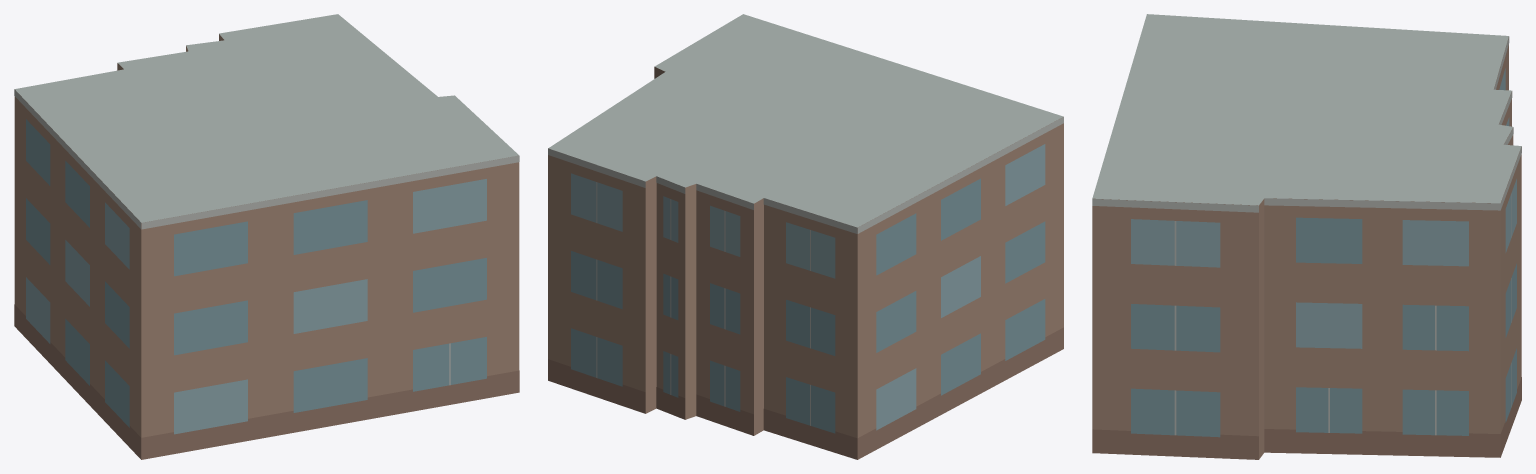
Rendered from survey-upis-32683885.glb.
The picture shows the model from 3 angles, left to right: view 1: azimuth 30°, elevation 25°; view 2: azimuth 150°, elevation 25°; view 3: azimuth 270°, elevation 25°; orthographic projection. The views are drawn at different scales.
Parts seen in each view (by area): view 1: survey-upis-32683885.tmp; view 2: survey-upis-32683885.tmp; view 3: survey-upis-32683885.tmp.
Part boxes in pixels (bbox=[...]): survey-upis-32683885.tmp: bbox=[14, 14, 519, 459]; survey-upis-32683885.tmp: bbox=[548, 14, 1063, 459]; survey-upis-32683885.tmp: bbox=[1092, 14, 1521, 459].
Size of the model in its own units: 13.89 by 8.6 by 13.17.
